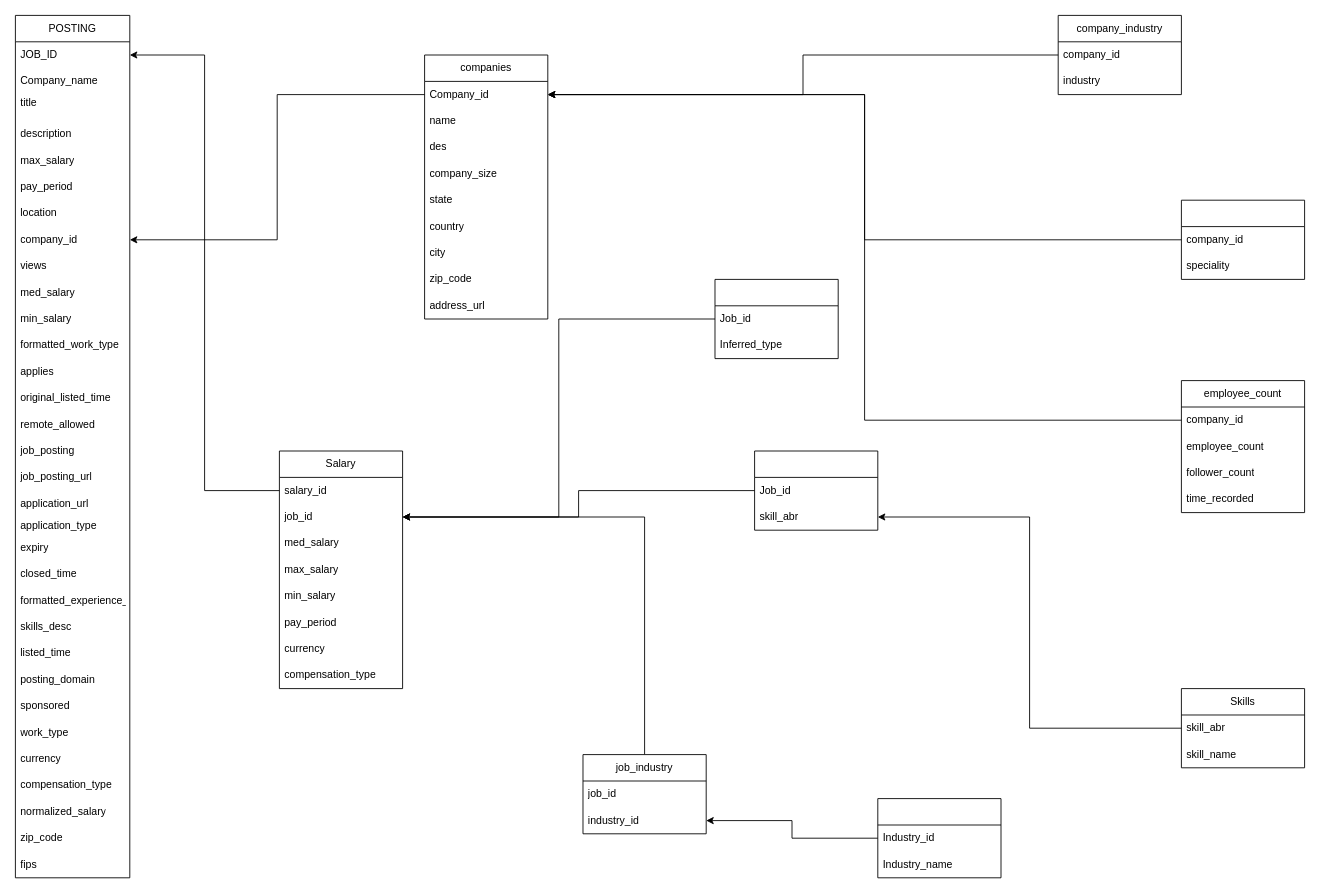
Some shapes in this 1320 by 893 pixel diagram are drawn without their labels. Here are the shapes that lost their labels. From the top down, the box of each, then its label:
(1181, 199, 1305, 279): company_speciality
(714, 279, 838, 359): benefits
(754, 450, 878, 530): job_skill
(877, 798, 1001, 878): Industries
